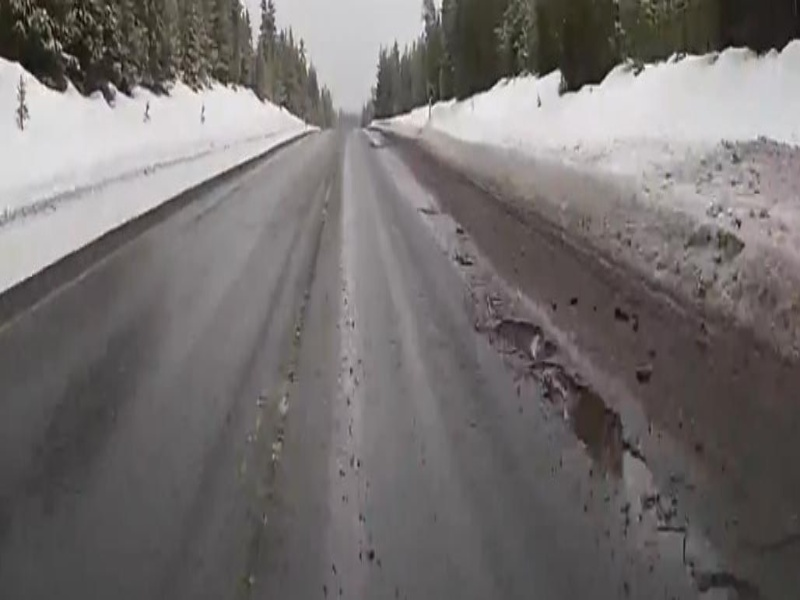pothole: (526, 360, 659, 498), (490, 316, 557, 362)
